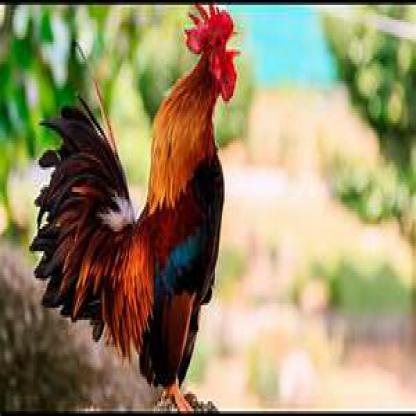chicken: (29, 3, 246, 408)
